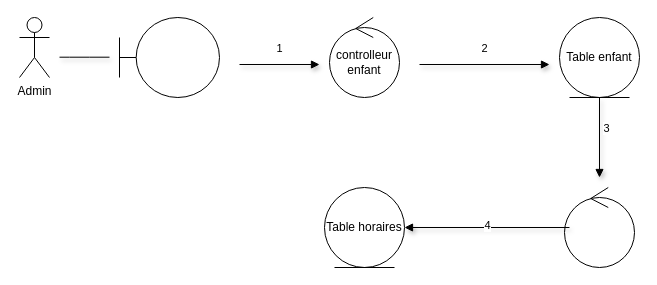
Some shapes in this 657 by 285 pixel diagram are drawn without their labels. The centre of each missing label's shape, as x and y in pixels:
"calendrier" belongs at point 169,57.
"controlleur horaires" belongs at point 599,227.
